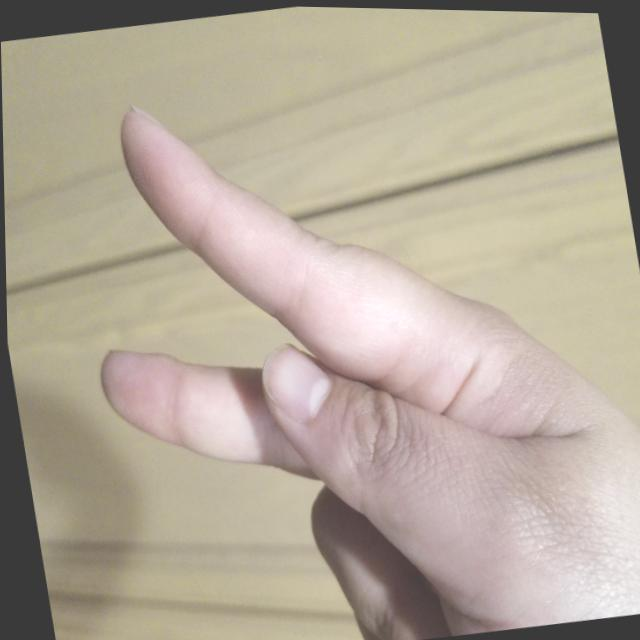P: (43, 21, 639, 639)
